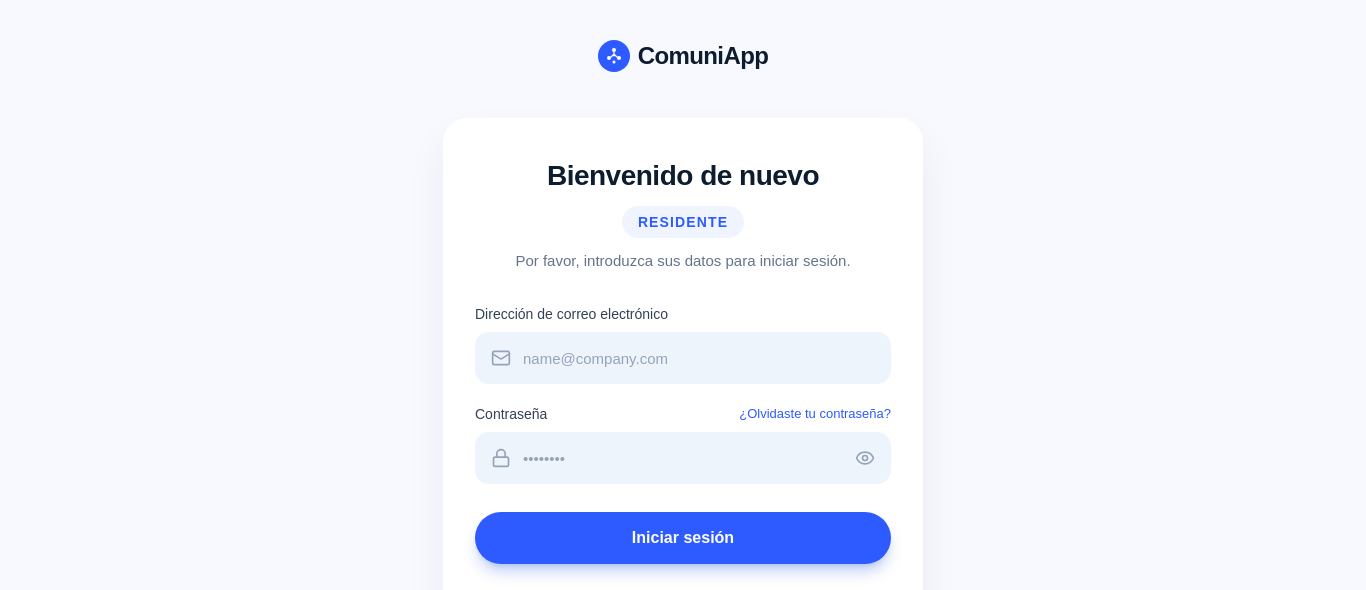
Integración — autenticación residente › permite iniciar sesión desde /login
Expected: the heading "Bienvenido de nuevo" is shown, [547, 160, 819, 191]
In the field labelled "Dirección de correo electrónico": (683, 358) [475, 332, 891, 384], type "residente@comuniapp.com"
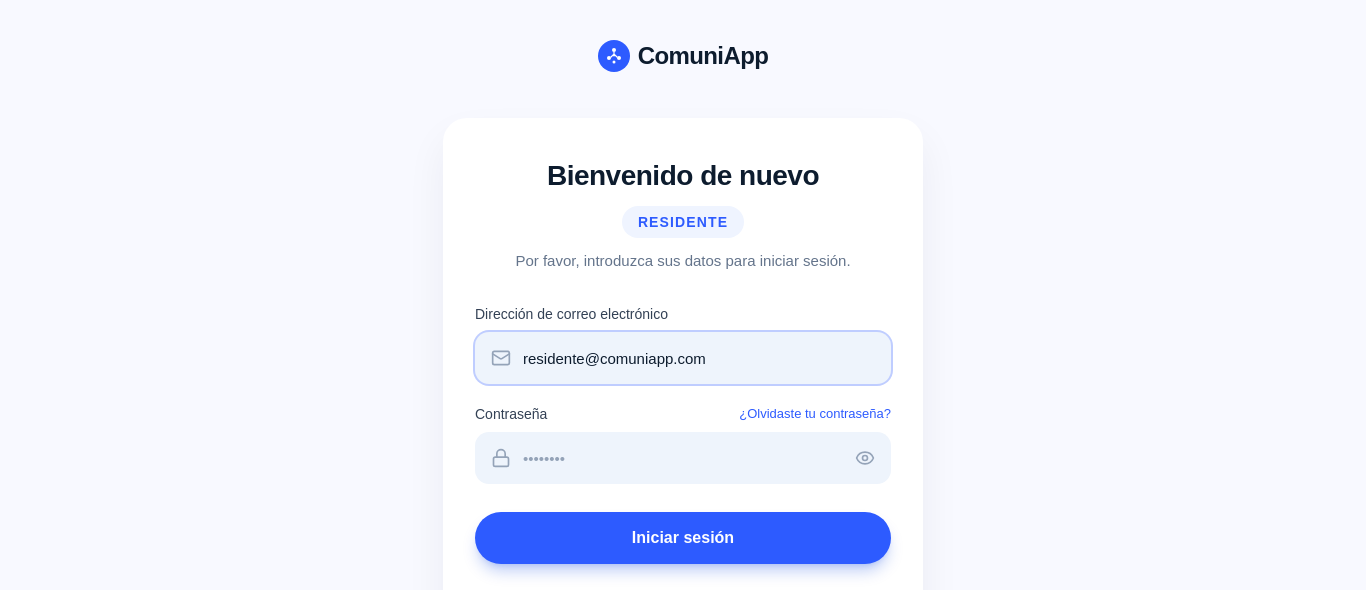
In the password field labelled "Contraseña": (683, 458) [475, 432, 891, 484], type "residente123"
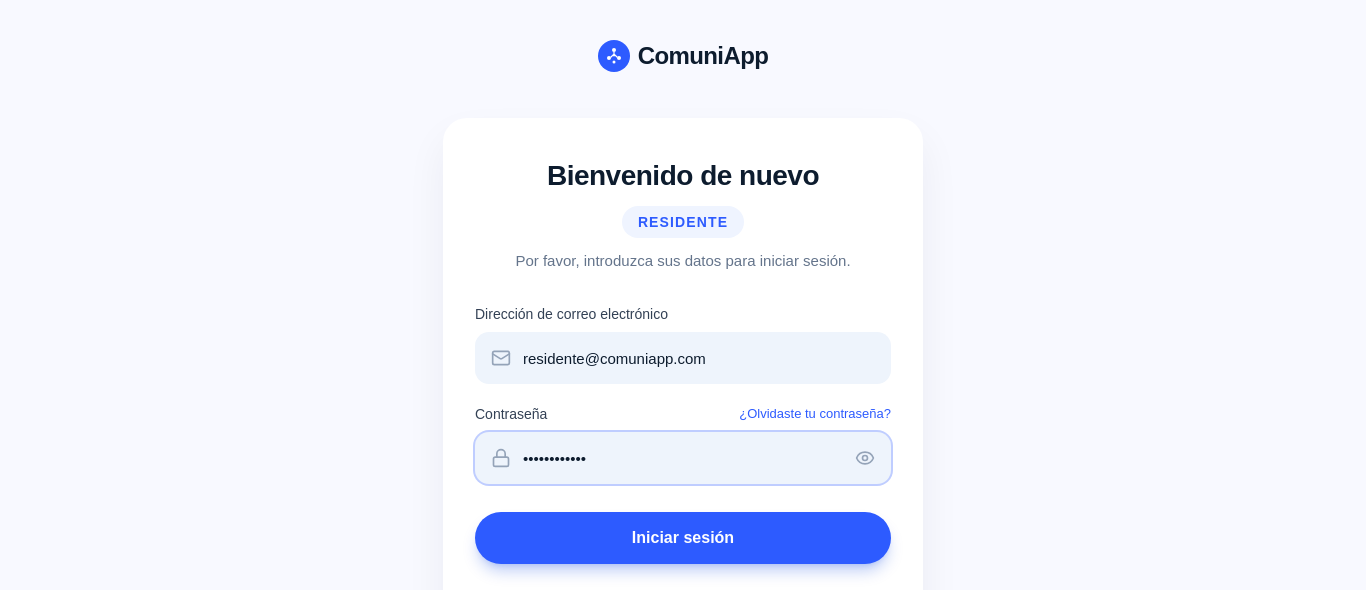
Click the button "Iniciar sesión": click(683, 538) [475, 512, 891, 564]
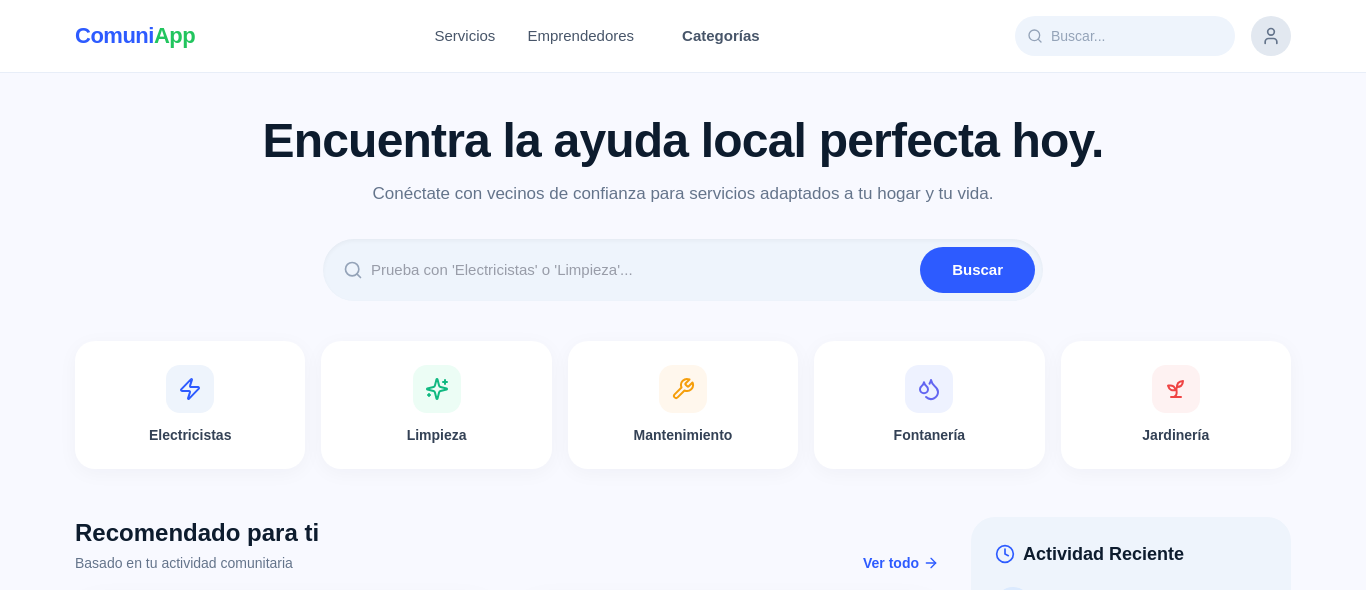
Expected: the heading "Encuentra la ayuda local perfecta hoy." is shown, [262, 114, 1104, 167]
